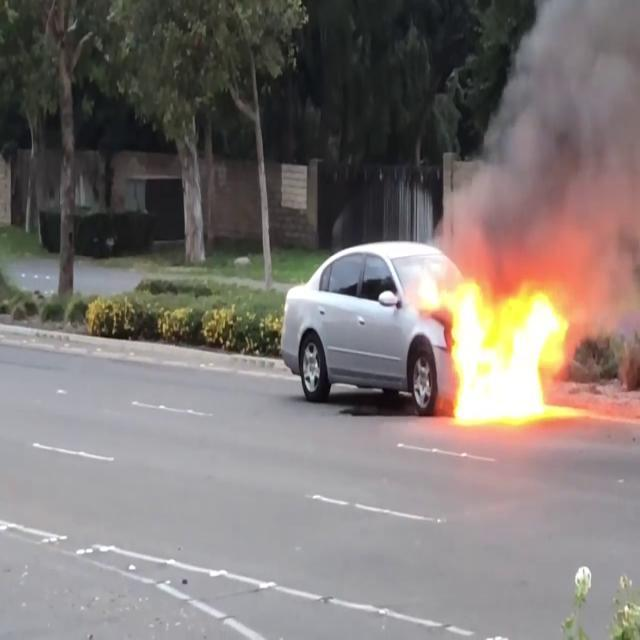Fire: (437, 266, 574, 429)
Smoke: (451, 0, 640, 282)
